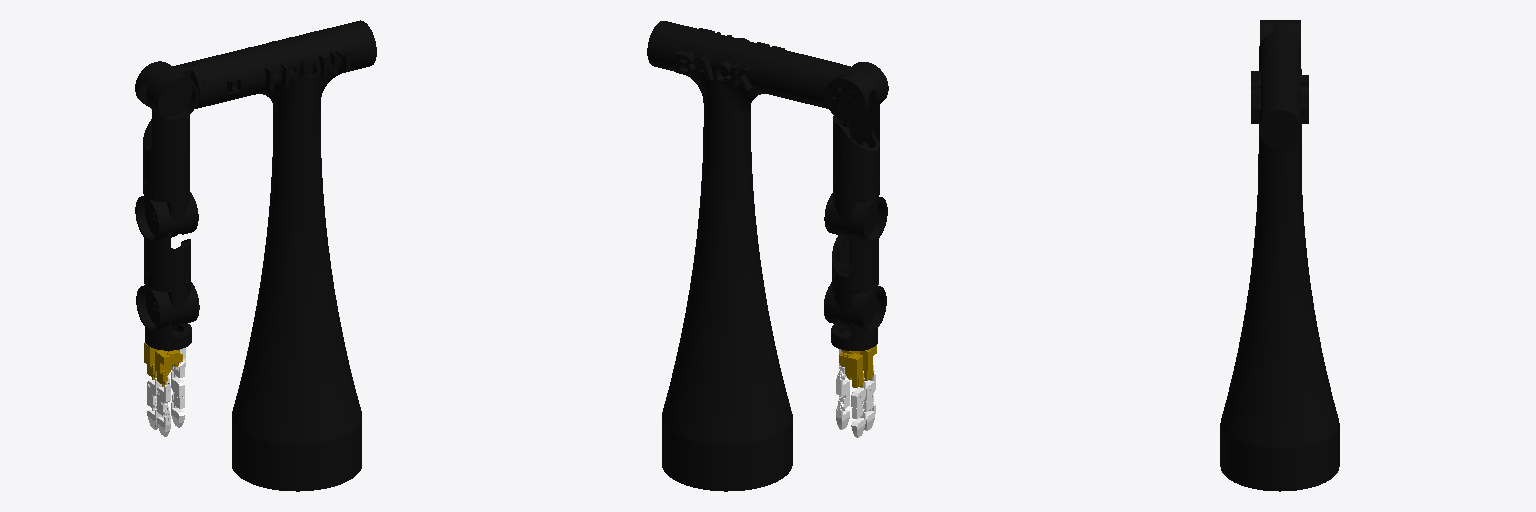
URDF robot description (One_Arm_JAX_URDF):
<?xml version="1.0"?>
<robot name="One_Arm_JAX_URDF">

  <!-- Materials -->
  <material name="Acetal_Resin_White">
    <color rgba="0.098 0.098 0.098 1.0"/>
  </material>
  <material name="Generic">
    <color rgba="0.702 0.553 0.004 1.0"/>
  </material>
  <material name="Steel">
    <color rgba="1.000 1.000 1.000 1.0"/>
  </material>

  <link name="base_link">
    <inertial>
      <origin xyz="0.000000 -0.000024 0.310385" rpy="0 0 0"/>
      <mass value="18.851818"/>
      <inertia ixx="1.411088e+00" ixy="-2.536840e-05" ixz="-2.004478e-06"
               iyy="1.424622e+00" iyz="2.612731e-04" izz="1.017141e-01"/>
    </inertial>
    <visual>
      <origin xyz="0.000000 0.000000 0.000000" rpy="0.000000 0.000000 0.000000"/>
      <geometry>
        <mesh filename="../meshes/One_Arm_JAX_URDF/base_link.dae" scale="1 1 1"/>
      </geometry>
      <material name="Acetal_Resin_White"/>
    </visual>
    <collision>
      <origin xyz="0.000000 0.000000 0.000000" rpy="0.000000 0.000000 0.000000"/>
      <geometry>
        <mesh filename="../meshes/One_Arm_JAX_URDF/base_link_collision.stl" scale="0.01 0.01 0.01"/>
      </geometry>
    </collision>
  </link>

  <link name="shoulder_pitch">
    <inertial>
      <origin xyz="-0.032702 0.001432 0.000002" rpy="0 0 0"/>
      <mass value="0.158148"/>
      <inertia ixx="2.275606e-04" ixy="-1.720751e-06" ixz="-3.176935e-09"
               iyy="1.740286e-04" iyz="1.447518e-08" izz="1.644870e-04"/>
    </inertial>
    <visual>
      <origin xyz="0.000000 0.000000 0.000000" rpy="0.000000 0.000000 0.000000"/>
      <geometry>
        <mesh filename="../meshes/One_Arm_JAX_URDF/shoulder_pitch.dae" scale="1 1 1"/>
      </geometry>
      <material name="Acetal_Resin_White"/>
    </visual>
    <collision>
      <origin xyz="0.000000 0.000000 0.000000" rpy="0.000000 0.000000 0.000000"/>
      <geometry>
        <mesh filename="../meshes/One_Arm_JAX_URDF/shoulder_pitch_collision.stl" scale="0.01 0.01 0.01"/>
      </geometry>
    </collision>
  </link>

  <link name="shoulder_roll">
    <inertial>
      <origin xyz="0.013264 -0.002225 0.043794" rpy="0 0 0"/>
      <mass value="0.324360"/>
      <inertia ixx="6.473261e-04" ixy="9.284673e-07" ixz="-1.242994e-04"
               iyy="6.168444e-04" iyz="2.484627e-05" izz="4.576633e-04"/>
    </inertial>
    <visual>
      <origin xyz="0.000000 0.000000 -0.071000" rpy="1.570796 1.570796 0.000000"/>
      <geometry>
        <mesh filename="../meshes/One_Arm_JAX_URDF/shoulder_roll.dae" scale="1 1 1"/>
      </geometry>
      <material name="Acetal_Resin_White"/>
    </visual>
    <collision>
      <origin xyz="0.000000 0.000000 -0.071000" rpy="1.570796 1.570796 0.000000"/>
      <geometry>
        <mesh filename="../meshes/One_Arm_JAX_URDF/shoulder_roll_collision.stl" scale="0.01 0.01 0.01"/>
      </geometry>
    </collision>
  </link>

  <link name="shoulder_yaw">
    <inertial>
      <origin xyz="0.002064 0.084612 0.004502" rpy="0 0 0"/>
      <mass value="0.581764"/>
      <inertia ixx="2.145549e-03" ixy="8.073149e-06" ixz="-2.628206e-05"
               iyy="7.153900e-04" iyz="-2.949087e-04" izz="2.143607e-03"/>
    </inertial>
    <visual>
      <origin xyz="0.147000 0.000000 0.017000" rpy="1.570796 0.000000 0.000000"/>
      <geometry>
        <mesh filename="../meshes/One_Arm_JAX_URDF/shoulder_yaw.dae" scale="1 1 1"/>
      </geometry>
      <material name="Acetal_Resin_White"/>
    </visual>
    <collision>
      <origin xyz="0.147000 0.000000 0.017000" rpy="1.570796 0.000000 0.000000"/>
      <geometry>
        <mesh filename="../meshes/One_Arm_JAX_URDF/shoulder_yaw_collision.stl" scale="0.01 0.01 0.01"/>
      </geometry>
    </collision>
  </link>

  <link name="upper_arm">
    <inertial>
      <origin xyz="0.012506 -0.000994 0.047835" rpy="0 0 0"/>
      <mass value="0.427128"/>
      <inertia ixx="8.192412e-04" ixy="5.035535e-07" ixz="-1.458607e-04"
               iyy="7.505209e-04" iyz="1.201311e-05" izz="5.536482e-04"/>
    </inertial>
    <visual>
      <origin xyz="0.147000 0.000000 -0.184000" rpy="-3.141593 0.000000 0.000000"/>
      <geometry>
        <mesh filename="../meshes/One_Arm_JAX_URDF/upper_arm.dae" scale="1 1 1"/>
      </geometry>
      <material name="Acetal_Resin_White"/>
    </visual>
    <collision>
      <origin xyz="0.147000 0.000000 -0.184000" rpy="-3.141593 0.000000 0.000000"/>
      <geometry>
        <mesh filename="../meshes/One_Arm_JAX_URDF/upper_arm_collision.stl" scale="0.01 0.01 0.01"/>
      </geometry>
    </collision>
  </link>

  <link name="under_arm">
    <inertial>
      <origin xyz="-0.002907 -0.059717 -0.000199" rpy="0 0 0"/>
      <mass value="0.412497"/>
      <inertia ixx="1.067620e-03" ixy="-2.180100e-05" ixz="3.192630e-05"
               iyy="4.383872e-04" iyz="1.279976e-04" izz="1.099165e-03"/>
    </inertial>
    <visual>
      <origin xyz="0.000000 0.260000 0.164000" rpy="-1.570796 -1.570796 0.000000"/>
      <geometry>
        <mesh filename="../meshes/One_Arm_JAX_URDF/under_arm.dae" scale="1 1 1"/>
      </geometry>
      <material name="Acetal_Resin_White"/>
    </visual>
    <collision>
      <origin xyz="0.000000 0.260000 0.164000" rpy="-1.570796 -1.570796 0.000000"/>
      <geometry>
        <mesh filename="../meshes/One_Arm_JAX_URDF/under_arm_collision.stl" scale="0.01 0.01 0.01"/>
      </geometry>
    </collision>
  </link>

  <link name="arm_yaw">
    <inertial>
      <origin xyz="0.015651 -0.001206 0.046878" rpy="0 0 0"/>
      <mass value="0.352679"/>
      <inertia ixx="6.127647e-04" ixy="-8.476607e-07" ixz="-8.833118e-05"
               iyy="5.238170e-04" iyz="8.131708e-06" izz="4.525957e-04"/>
    </inertial>
    <visual>
      <origin xyz="0.147000 0.000000 -0.383000" rpy="3.141593 0.000000 0.000000"/>
      <geometry>
        <mesh filename="../meshes/One_Arm_JAX_URDF/arm_yaw.dae" scale="1 1 1"/>
      </geometry>
      <material name="Acetal_Resin_White"/>
    </visual>
    <collision>
      <origin xyz="0.147000 0.000000 -0.383000" rpy="3.141593 0.000000 0.000000"/>
      <geometry>
        <mesh filename="../meshes/One_Arm_JAX_URDF/arm_yaw_collision.stl" scale="0.01 0.01 0.01"/>
      </geometry>
    </collision>
  </link>

  <link name="wrist_pitch">
    <inertial>
      <origin xyz="-0.000001 -0.038053 0.004109" rpy="0 0 0"/>
      <mass value="0.313866"/>
      <inertia ixx="5.548459e-04" ixy="-6.541893e-09" ixz="9.115910e-09"
               iyy="3.517070e-04" iyz="1.185148e-04" izz="5.860203e-04"/>
    </inertial>
    <visual>
      <origin xyz="-0.000000 0.449153 0.164000" rpy="-1.570796 -1.570796 0.000000"/>
      <geometry>
        <mesh filename="../meshes/One_Arm_JAX_URDF/wrist_pitch.dae" scale="1 1 1"/>
      </geometry>
      <material name="Acetal_Resin_White"/>
    </visual>
    <collision>
      <origin xyz="-0.000000 0.449153 0.164000" rpy="-1.570796 -1.570796 0.000000"/>
      <geometry>
        <mesh filename="../meshes/One_Arm_JAX_URDF/wrist_pitch_collision.stl" scale="0.01 0.01 0.01"/>
      </geometry>
    </collision>
  </link>

  <link name="wrist_yaw">
    <inertial>
      <origin xyz="-0.014218 -0.004013 0.039421" rpy="0 0 0"/>
      <mass value="0.593289"/>
      <inertia ixx="5.173183e-04" ixy="-2.067920e-05" ixz="3.749251e-05"
               iyy="2.552107e-04" iyz="2.873755e-05" izz="3.888246e-04"/>
    </inertial>
    <visual>
      <origin xyz="-0.146997 0.000000 -0.527000" rpy="-3.141593 0.000000 3.141593"/>
      <geometry>
        <mesh filename="../meshes/One_Arm_JAX_URDF/wrist_yaw.dae" scale="1 1 1"/>
      </geometry>
      <material name="Generic"/>
    </visual>
    <collision>
      <origin xyz="-0.146997 0.000000 -0.527000" rpy="-3.141593 0.000000 3.141593"/>
      <geometry>
        <mesh filename="../meshes/One_Arm_JAX_URDF/wrist_yaw_collision.stl" scale="0.01 0.01 0.01"/>
      </geometry>
    </collision>
  </link>

  <link name="rotation_base">
    <inertial>
      <origin xyz="0.019866 -0.021224 0.000775" rpy="0 0 0"/>
      <mass value="0.183033"/>
      <inertia ixx="6.977028e-05" ixy="1.646407e-06" ixz="-4.786734e-07"
               iyy="6.237292e-05" iyz="6.425423e-06" izz="1.668727e-05"/>
    </inertial>
    <visual>
      <origin xyz="-0.148997 -0.025438 -0.573174" rpy="-3.141593 0.000000 3.141593"/>
      <geometry>
        <mesh filename="../meshes/One_Arm_JAX_URDF/rotation_base.dae" scale="1 1 1"/>
      </geometry>
      <material name="Steel"/>
    </visual>
    <collision>
      <origin xyz="-0.148997 -0.025438 -0.573174" rpy="-3.141593 0.000000 3.141593"/>
      <geometry>
        <mesh filename="../meshes/One_Arm_JAX_URDF/rotation_base_collision.stl" scale="0.01 0.01 0.01"/>
      </geometry>
    </collision>
  </link>

  <link name="finger_1_link1">
    <inertial>
      <origin xyz="-0.000017 -0.041052 -0.016849" rpy="0 0 0"/>
      <mass value="0.159130"/>
      <inertia ixx="6.210196e-05" ixy="3.625679e-08" ixz="-1.813945e-08"
               iyy="1.636001e-05" iyz="-9.035041e-06" izz="4.996080e-05"/>
    </inertial>
    <visual>
      <origin xyz="-0.126997 0.599321 -0.033635" rpy="1.570796 0.000000 -3.141593"/>
      <geometry>
        <mesh filename="../meshes/One_Arm_JAX_URDF/finger_1_link1.dae" scale="1 1 1"/>
      </geometry>
      <material name="Steel"/>
    </visual>
    <collision>
      <origin xyz="-0.126997 0.599321 -0.033635" rpy="1.570796 0.000000 -3.141593"/>
      <geometry>
        <mesh filename="../meshes/One_Arm_JAX_URDF/finger_1_link1_collision.stl" scale="0.01 0.01 0.01"/>
      </geometry>
    </collision>
  </link>

  <link name="finger_2_link1">
    <inertial>
      <origin xyz="-0.000017 -0.041052 -0.016849" rpy="0 0 0"/>
      <mass value="0.159130"/>
      <inertia ixx="6.210196e-05" ixy="3.625679e-08" ixz="-1.813945e-08"
               iyy="1.636001e-05" iyz="-9.035041e-06" izz="4.996080e-05"/>
    </inertial>
    <visual>
      <origin xyz="-0.126997 0.599321 0.003365" rpy="1.570796 0.000000 -3.141593"/>
      <geometry>
        <mesh filename="../meshes/One_Arm_JAX_URDF/finger_2_link1.dae" scale="1 1 1"/>
      </geometry>
      <material name="Steel"/>
    </visual>
    <collision>
      <origin xyz="-0.126997 0.599321 0.003365" rpy="1.570796 0.000000 -3.141593"/>
      <geometry>
        <mesh filename="../meshes/One_Arm_JAX_URDF/finger_2_link1_collision.stl" scale="0.01 0.01 0.01"/>
      </geometry>
    </collision>
  </link>

  <link name="finger_3_link1">
    <inertial>
      <origin xyz="0.000017 0.041052 -0.016849" rpy="0 0 0"/>
      <mass value="0.159130"/>
      <inertia ixx="6.210196e-05" ixy="3.625679e-08" ixz="1.813945e-08"
               iyy="1.636001e-05" iyz="9.035041e-06" izz="4.996080e-05"/>
    </inertial>
    <visual>
      <origin xyz="-0.169997 -0.599321 -0.019980" rpy="-1.570796 0.000000 -3.141593"/>
      <geometry>
        <mesh filename="../meshes/One_Arm_JAX_URDF/finger_3_link1.dae" scale="1 1 1"/>
      </geometry>
      <material name="Steel"/>
    </visual>
    <collision>
      <origin xyz="-0.169997 -0.599321 -0.019980" rpy="-1.570796 0.000000 -3.141593"/>
      <geometry>
        <mesh filename="../meshes/One_Arm_JAX_URDF/finger_3_link1_collision.stl" scale="0.01 0.01 0.01"/>
      </geometry>
    </collision>
  </link>

  <link name="finger_1_link2">
    <inertial>
      <origin xyz="0.000000 -0.027873 -0.014105" rpy="0 0 0"/>
      <mass value="0.088798"/>
      <inertia ixx="1.736442e-05" ixy="0.000000e+00" ixz="0.000000e+00"
               iyy="8.448689e-06" iyz="-2.444888e-06" izz="1.096958e-05"/>
    </inertial>
    <visual>
      <origin xyz="-0.126997 0.664321 -0.033635" rpy="1.570796 0.000000 -3.141593"/>
      <geometry>
        <mesh filename="../meshes/One_Arm_JAX_URDF/finger_1_link2.dae" scale="1 1 1"/>
      </geometry>
      <material name="Steel"/>
    </visual>
    <collision>
      <origin xyz="-0.126997 0.664321 -0.033635" rpy="1.570796 0.000000 -3.141593"/>
      <geometry>
        <mesh filename="../meshes/One_Arm_JAX_URDF/finger_1_link2_collision.stl" scale="0.01 0.01 0.01"/>
      </geometry>
    </collision>
  </link>

  <link name="finger_2_link2">
    <inertial>
      <origin xyz="0.000000 -0.027873 -0.014105" rpy="0 0 0"/>
      <mass value="0.088798"/>
      <inertia ixx="1.736442e-05" ixy="0.000000e+00" ixz="0.000000e+00"
               iyy="8.448689e-06" iyz="-2.444888e-06" izz="1.096958e-05"/>
    </inertial>
    <visual>
      <origin xyz="-0.126997 0.664321 0.003365" rpy="1.570796 0.000000 -3.141593"/>
      <geometry>
        <mesh filename="../meshes/One_Arm_JAX_URDF/finger_2_link2.dae" scale="1 1 1"/>
      </geometry>
      <material name="Steel"/>
    </visual>
    <collision>
      <origin xyz="-0.126997 0.664321 0.003365" rpy="1.570796 0.000000 -3.141593"/>
      <geometry>
        <mesh filename="../meshes/One_Arm_JAX_URDF/finger_2_link2_collision.stl" scale="0.01 0.01 0.01"/>
      </geometry>
    </collision>
  </link>

  <link name="finger_3_link2">
    <inertial>
      <origin xyz="0.000000 0.027873 -0.014105" rpy="0 0 0"/>
      <mass value="0.088798"/>
      <inertia ixx="1.736442e-05" ixy="0.000000e+00" ixz="0.000000e+00"
               iyy="8.448689e-06" iyz="2.444888e-06" izz="1.096958e-05"/>
    </inertial>
    <visual>
      <origin xyz="-0.169997 -0.664321 -0.019980" rpy="-1.570796 0.000000 -3.141593"/>
      <geometry>
        <mesh filename="../meshes/One_Arm_JAX_URDF/finger_3_link2.dae" scale="1 1 1"/>
      </geometry>
      <material name="Steel"/>
    </visual>
    <collision>
      <origin xyz="-0.169997 -0.664321 -0.019980" rpy="-1.570796 0.000000 -3.141593"/>
      <geometry>
        <mesh filename="../meshes/One_Arm_JAX_URDF/finger_3_link2_collision.stl" scale="0.01 0.01 0.01"/>
      </geometry>
    </collision>
  </link>

  <joint name="base_link_to_shoulder_pitch" type="fixed">
    <parent link="base_link"/>
    <child link="shoulder_pitch"/>
    <origin xyz="-0.140000 0.000000 0.850000" rpy="0.000000 0.000000 0.000000"/>
  </joint>

  <joint name="shoulder_pitch_to_shoulder_roll" type="revolute">
    <parent link="shoulder_pitch"/>
    <child link="shoulder_roll"/>
    <origin xyz="-0.070000 0.000000 0.000000" rpy="-1.570796 0.000000 1.570796"/>
    <axis xyz="0.000000 0.000000 1.000000"/>
    <limit lower="-0.785398" upper="0.785398" effort="100.0" velocity="1.00"/>
  </joint>

  <joint name="shoulder_roll_to_shoulder_yaw" type="revolute">
    <parent link="shoulder_roll"/>
    <child link="shoulder_yaw"/>
    <origin xyz="-0.015000 0.000000 0.076000" rpy="0.000000 1.570796 0.000000"/>
    <axis xyz="0.000000 0.000000 1.000000"/>
    <limit lower="-0.043633" upper="0.785398" effort="100.0" velocity="1.00"/>
  </joint>

  <joint name="shoulder_yaw_to_upper_arm" type="revolute">
    <parent link="shoulder_yaw"/>
    <child link="upper_arm"/>
    <origin xyz="0.000000 0.183000 0.017000" rpy="-1.570796 0.000000 0.000000"/>
    <axis xyz="0.000000 0.000000 1.000000"/>
    <limit lower="-1.047198" upper="1.047198" effort="100.0" velocity="1.00"/>
  </joint>

  <joint name="upper_arm_to_under_arm" type="revolute">
    <parent link="upper_arm"/>
    <child link="under_arm"/>
    <origin xyz="-0.015000 0.000000 0.076000" rpy="-1.570796 0.000000 -1.570796"/>
    <axis xyz="0.000000 0.000000 1.000000"/>
    <limit lower="-1.570796" upper="1.570796" effort="100.0" velocity="1.00"/>
  </joint>

  <joint name="under_arm_to_arm_yaw" type="revolute">
    <parent link="under_arm"/>
    <child link="arm_yaw"/>
    <origin xyz="0.000000 -0.123000 0.017000" rpy="1.570796 -1.570796 0.000000"/>
    <axis xyz="0.000000 0.000000 1.000000"/>
    <limit lower="-1.570796" upper="1.570796" effort="100.0" velocity="1.00"/>
  </joint>

  <joint name="arm_yaw_to_wrist_pitch" type="revolute">
    <parent link="arm_yaw"/>
    <child link="wrist_pitch"/>
    <origin xyz="-0.015000 0.000000 0.066000" rpy="-1.570796 0.000000 -1.570796"/>
    <axis xyz="0.000000 0.000000 1.000000"/>
    <limit lower="-1.570796" upper="1.570796" effort="100.0" velocity="1.00"/>
  </joint>

  <joint name="wrist_pitch_to_wrist_yaw" type="revolute">
    <parent link="wrist_pitch"/>
    <child link="wrist_yaw"/>
    <origin xyz="-0.000000 -0.077847 0.017003" rpy="1.570796 -1.570796 0.000000"/>
    <axis xyz="0.000000 0.000000 1.000000"/>
    <limit lower="-2.094395" upper="2.094395" effort="100.0" velocity="1.00"/>
  </joint>

  <joint name="wrist_yaw_to_rotation_base" type="revolute">
    <parent link="wrist_yaw"/>
    <child link="rotation_base"/>
    <origin xyz="0.002087 0.025561 0.045758" rpy="0.000000 0.000000 0.000000"/>
    <axis xyz="0.000000 0.000000 1.000000"/>
    <limit lower="0.000000" upper="3.141593" effort="100.0" velocity="1.00"/>
  </joint>

  <joint name="wrist_yaw_to_finger_2_link1" type="revolute">
    <parent link="wrist_yaw"/>
    <child link="finger_1_link1"/>
    <origin xyz="-0.020000 0.033335 0.072321" rpy="-1.570796 0.000000 0.000000"/>
    <axis xyz="0.000000 0.000000 1.000000"/>
    <limit lower="-1.570796" upper="1.570796" effort="100.0" velocity="1.00"/>
  </joint>

  <joint name="wrist_yaw_to_finger_3_link1" type="revolute">
    <parent link="wrist_yaw"/>
    <child link="finger_2_link1"/>
    <origin xyz="-0.020000 -0.003665 0.072321" rpy="-1.570796 0.000000 0.000000"/>
    <axis xyz="0.000000 0.000000 1.000000"/>
    <limit lower="-1.570796" upper="1.570796" effort="100.0" velocity="1.00"/>
  </joint>

  <joint name="rotation_base_to_finger_1_link1" type="revolute">
    <parent link="rotation_base"/>
    <child link="finger_3_link1"/>
    <origin xyz="0.021000 -0.045117 0.026147" rpy="1.570796 0.000000 0.000000"/>
    <axis xyz="0.000000 0.000000 1.000000"/>
    <limit lower="-1.570796" upper="1.570796" effort="100.0" velocity="1.00"/>
  </joint>

  <joint name="wrist_yaw_to_finger_2_link2" type="revolute">
    <parent link="finger_1_link1"/>
    <child link="finger_1_link2"/>
    <origin xyz="0.000000 -0.065000 -0.000300" rpy="0.000000 0.000000 0.000000"/>
    <axis xyz="0.000000 0.000000 1.000000"/>
    <limit lower="0.000000" upper="2.094395" effort="100.0" velocity="1.00"/>
  </joint>

  <joint name="wrist_yaw_to_finger_3_link2" type="revolute">
    <parent link="finger_2_link1"/>
    <child link="finger_2_link2"/>
    <origin xyz="0.000000 -0.065000 -0.000300" rpy="0.000000 0.000000 0.000000"/>
    <axis xyz="0.000000 0.000000 1.000000"/>
    <limit lower="0.000000" upper="2.094395" effort="100.0" velocity="1.00"/>
  </joint>

  <joint name="finger_1_link1_to_finger_1_link2" type="revolute">
    <parent link="finger_3_link1"/>
    <child link="finger_3_link2"/>
    <origin xyz="0.000000 0.065000 -0.000300" rpy="0.000000 0.000000 0.000000"/>
    <axis xyz="0.000000 0.000000 1.000000"/>
    <limit lower="0.000000" upper="2.094395" effort="100.0" velocity="1.00"/>
  </joint>

  <!-- ROS 2 control: generated generic system -->
  <ros2_control name="One_Arm_JAX_URDF_system" type="system">
    <hardware>
      <plugin>mock_components/GenericSystem</plugin>
      <param name="cmd_topic">sim/One_Arm_JAX_URDF_system/cmd</param>
      <param name="state_topic">sim/One_Arm_JAX_URDF_system/state</param>
    </hardware>

    <joint name="arm_yaw_to_wrist_pitch">
      <command_interface name="position"/>
      <command_interface name="velocity"/>
      <state_interface name="position">
        <param name="initial_value">0.0</param>
      </state_interface>
      <state_interface name="velocity"/>
      <state_interface name="effort"/>
    </joint>
    <joint name="finger_1_link1_to_finger_1_link2">
      <command_interface name="position"/>
      <command_interface name="velocity"/>
      <state_interface name="position">
        <param name="initial_value">0.0</param>
      </state_interface>
      <state_interface name="velocity"/>
      <state_interface name="effort"/>
    </joint>
    <joint name="rotation_base_to_finger_1_link1">
      <command_interface name="position"/>
      <command_interface name="velocity"/>
      <state_interface name="position">
        <param name="initial_value">0.0</param>
      </state_interface>
      <state_interface name="velocity"/>
      <state_interface name="effort"/>
    </joint>
    <joint name="shoulder_pitch_to_shoulder_roll">
      <command_interface name="position"/>
      <command_interface name="velocity"/>
      <state_interface name="position">
        <param name="initial_value">0.0</param>
      </state_interface>
      <state_interface name="velocity"/>
      <state_interface name="effort"/>
    </joint>
    <joint name="shoulder_roll_to_shoulder_yaw">
      <command_interface name="position"/>
      <command_interface name="velocity"/>
      <state_interface name="position">
        <param name="initial_value">0.0</param>
      </state_interface>
      <state_interface name="velocity"/>
      <state_interface name="effort"/>
    </joint>
    <joint name="shoulder_yaw_to_upper_arm">
      <command_interface name="position"/>
      <command_interface name="velocity"/>
      <state_interface name="position">
        <param name="initial_value">0.0</param>
      </state_interface>
      <state_interface name="velocity"/>
      <state_interface name="effort"/>
    </joint>
    <joint name="under_arm_to_arm_yaw">
      <command_interface name="position"/>
      <command_interface name="velocity"/>
      <state_interface name="position">
        <param name="initial_value">0.0</param>
      </state_interface>
      <state_interface name="velocity"/>
      <state_interface name="effort"/>
    </joint>
    <joint name="upper_arm_to_under_arm">
      <command_interface name="position"/>
      <command_interface name="velocity"/>
      <state_interface name="position">
        <param name="initial_value">0.0</param>
      </state_interface>
      <state_interface name="velocity"/>
      <state_interface name="effort"/>
    </joint>
    <joint name="wrist_pitch_to_wrist_yaw">
      <command_interface name="position"/>
      <command_interface name="velocity"/>
      <state_interface name="position">
        <param name="initial_value">0.0</param>
      </state_interface>
      <state_interface name="velocity"/>
      <state_interface name="effort"/>
    </joint>
    <joint name="wrist_yaw_to_finger_2_link1">
      <command_interface name="position"/>
      <command_interface name="velocity"/>
      <state_interface name="position">
        <param name="initial_value">0.0</param>
      </state_interface>
      <state_interface name="velocity"/>
      <state_interface name="effort"/>
    </joint>
    <joint name="wrist_yaw_to_finger_2_link2">
      <command_interface name="position"/>
      <command_interface name="velocity"/>
      <state_interface name="position">
        <param name="initial_value">0.0</param>
      </state_interface>
      <state_interface name="velocity"/>
      <state_interface name="effort"/>
    </joint>
    <joint name="wrist_yaw_to_finger_3_link1">
      <command_interface name="position"/>
      <command_interface name="velocity"/>
      <state_interface name="position">
        <param name="initial_value">0.0</param>
      </state_interface>
      <state_interface name="velocity"/>
      <state_interface name="effort"/>
    </joint>
    <joint name="wrist_yaw_to_finger_3_link2">
      <command_interface name="position"/>
      <command_interface name="velocity"/>
      <state_interface name="position">
        <param name="initial_value">0.0</param>
      </state_interface>
      <state_interface name="velocity"/>
      <state_interface name="effort"/>
    </joint>
    <joint name="wrist_yaw_to_rotation_base">
      <command_interface name="position"/>
      <command_interface name="velocity"/>
      <state_interface name="position">
        <param name="initial_value">0.0</param>
      </state_interface>
      <state_interface name="velocity"/>
      <state_interface name="effort"/>
    </joint>
  </ros2_control>

</robot>

--- Render facts (derived) ---
The picture shows the robot from 3 angles, left to right: view 1: azimuth 30°, elevation 25°; view 2: azimuth 150°, elevation 25°; view 3: azimuth 270°, elevation 25°; orthographic projection.
Model One_Arm_JAX_URDF with 16 links and 15 joints (14 revolute, 1 fixed), rooted at base_link, posed all joints at 0.
Links seen in each view (by area): view 1: base_link, shoulder_yaw, under_arm, wrist_pitch, shoulder_roll, upper_arm, arm_yaw, shoulder_pitch, wrist_yaw; view 2: base_link, shoulder_yaw, under_arm, shoulder_roll, wrist_pitch, upper_arm, arm_yaw, shoulder_pitch, wrist_yaw; view 3: base_link, shoulder_roll.
Boxes of the visible links, x1=… form: base_link: x1=225, y1=20, x2=376, y2=491; shoulder_yaw: x1=143, y1=73, x2=198, y2=187; under_arm: x1=135, y1=196, x2=190, y2=282; wrist_pitch: x1=136, y1=285, x2=191, y2=350; shoulder_roll: x1=135, y1=60, x2=212, y2=108; upper_arm: x1=143, y1=180, x2=198, y2=237; arm_yaw: x1=144, y1=275, x2=199, y2=326; shoulder_pitch: x1=199, y1=54, x2=239, y2=105; wrist_yaw: x1=144, y1=343, x2=182, y2=386; base_link: x1=647, y1=21, x2=798, y2=491; shoulder_yaw: x1=833, y1=62, x2=888, y2=188; under_arm: x1=832, y1=197, x2=887, y2=282; shoulder_roll: x1=811, y1=60, x2=880, y2=121; wrist_pitch: x1=831, y1=286, x2=886, y2=350; upper_arm: x1=824, y1=181, x2=879, y2=237; arm_yaw: x1=824, y1=265, x2=878, y2=327; shoulder_pitch: x1=783, y1=54, x2=825, y2=105; wrist_yaw: x1=839, y1=345, x2=876, y2=387; base_link: x1=1220, y1=50, x2=1339, y2=491; shoulder_roll: x1=1259, y1=20, x2=1300, y2=51.
Size in the robot's own frame: 0.481 by 0.25 by 0.895 metres.
16 mesh visuals loaded from 16 distinct referenced files (16 Collada DAE).
